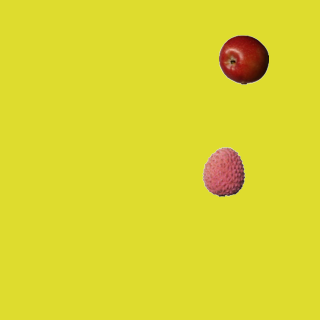Apple Braeburn: (218, 34, 268, 84)
Lychee: (198, 146, 248, 196)
